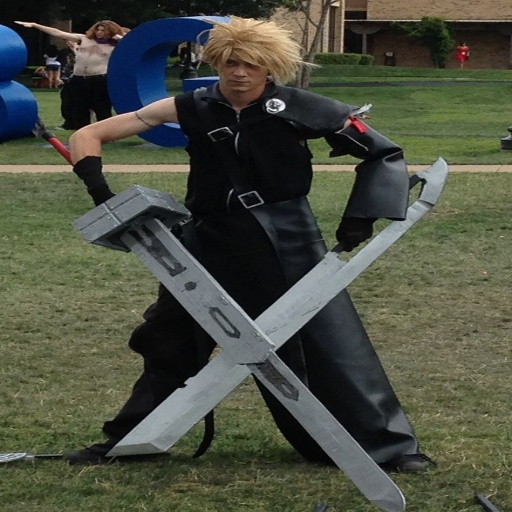hand: (334, 217, 375, 252), (95, 193, 116, 208), (16, 20, 37, 27), (109, 33, 120, 41)
